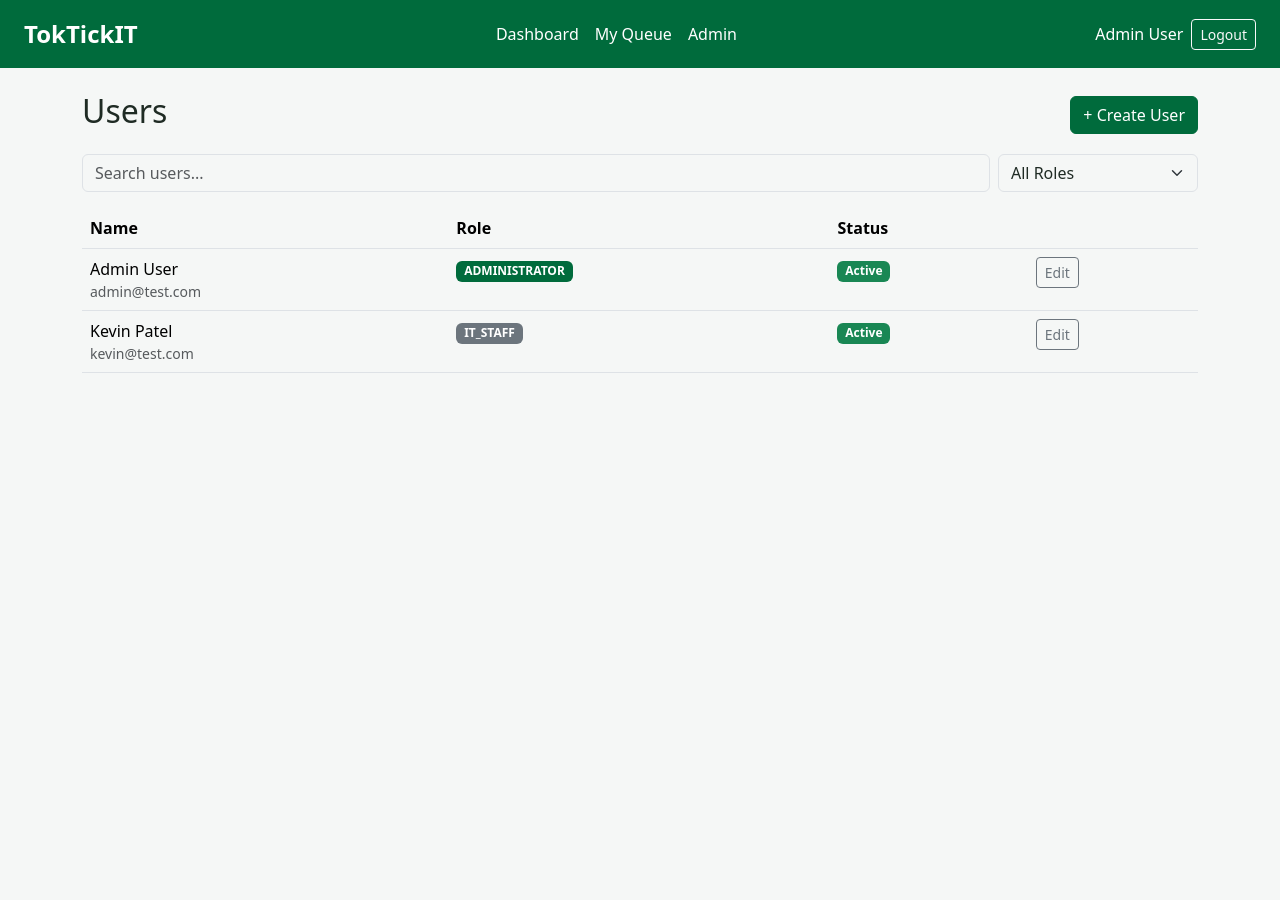
Test: UserManagement › allows deactivating another user
What coordinates should you click on to do the following:
click the button "Edit" in the row of "Kevin Patel"
I would click on:
 (1057, 335)
Its box is 1036,319 -> 1079,350.
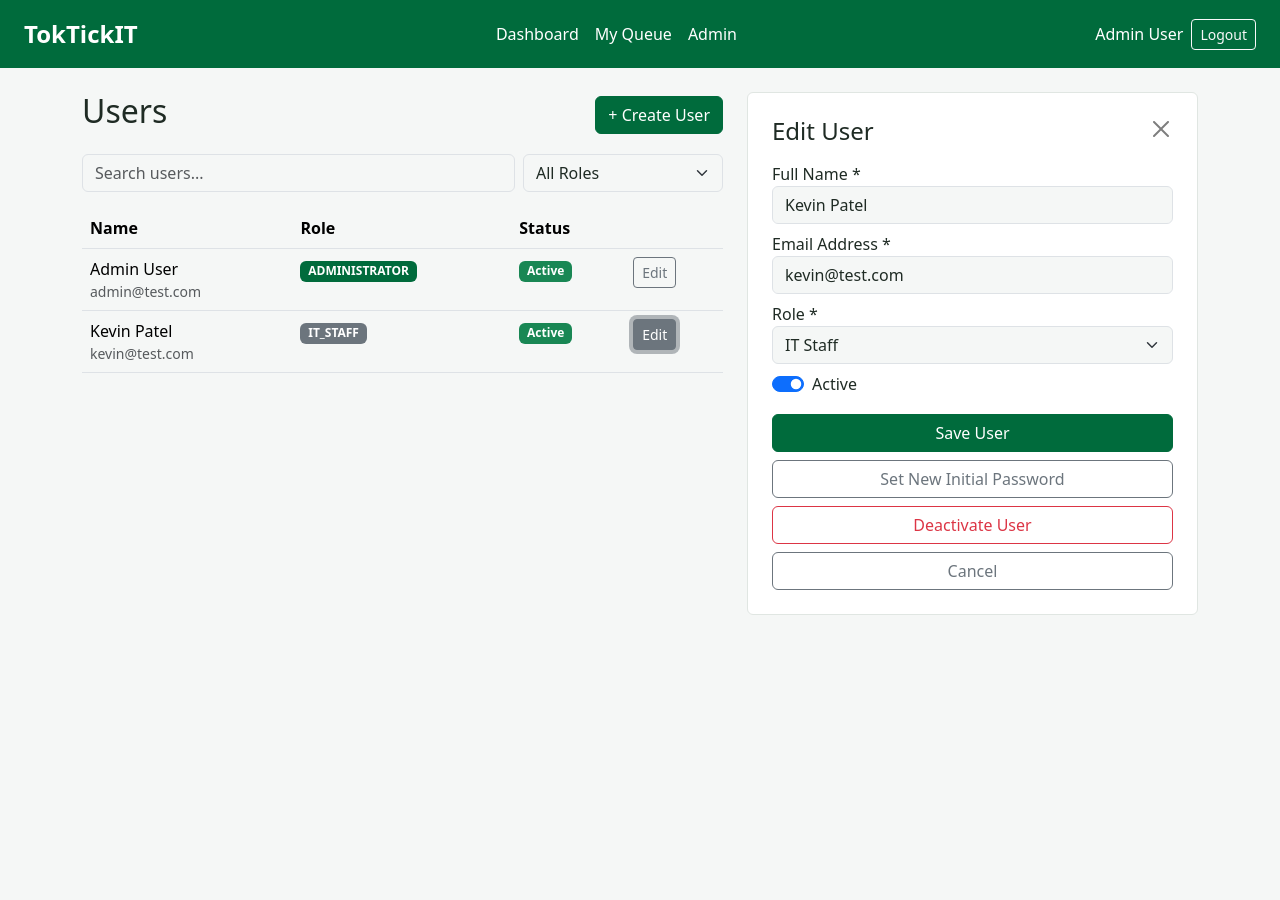
Expected: the checkbox labelled "Active" is enabled, 772,376 -> 804,392
Expected: the button "Deactivate User" is enabled, 772,506 -> 1173,544
